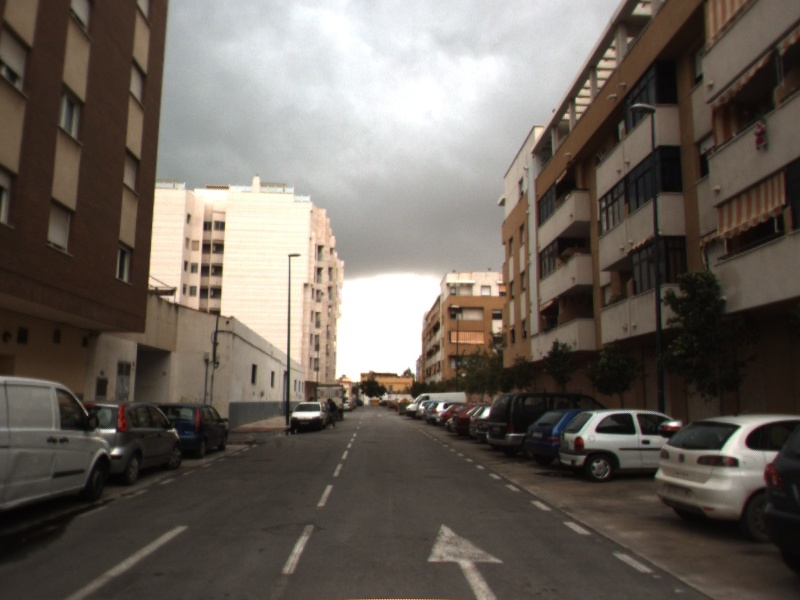STRAIGHT: (424, 521, 507, 600)
